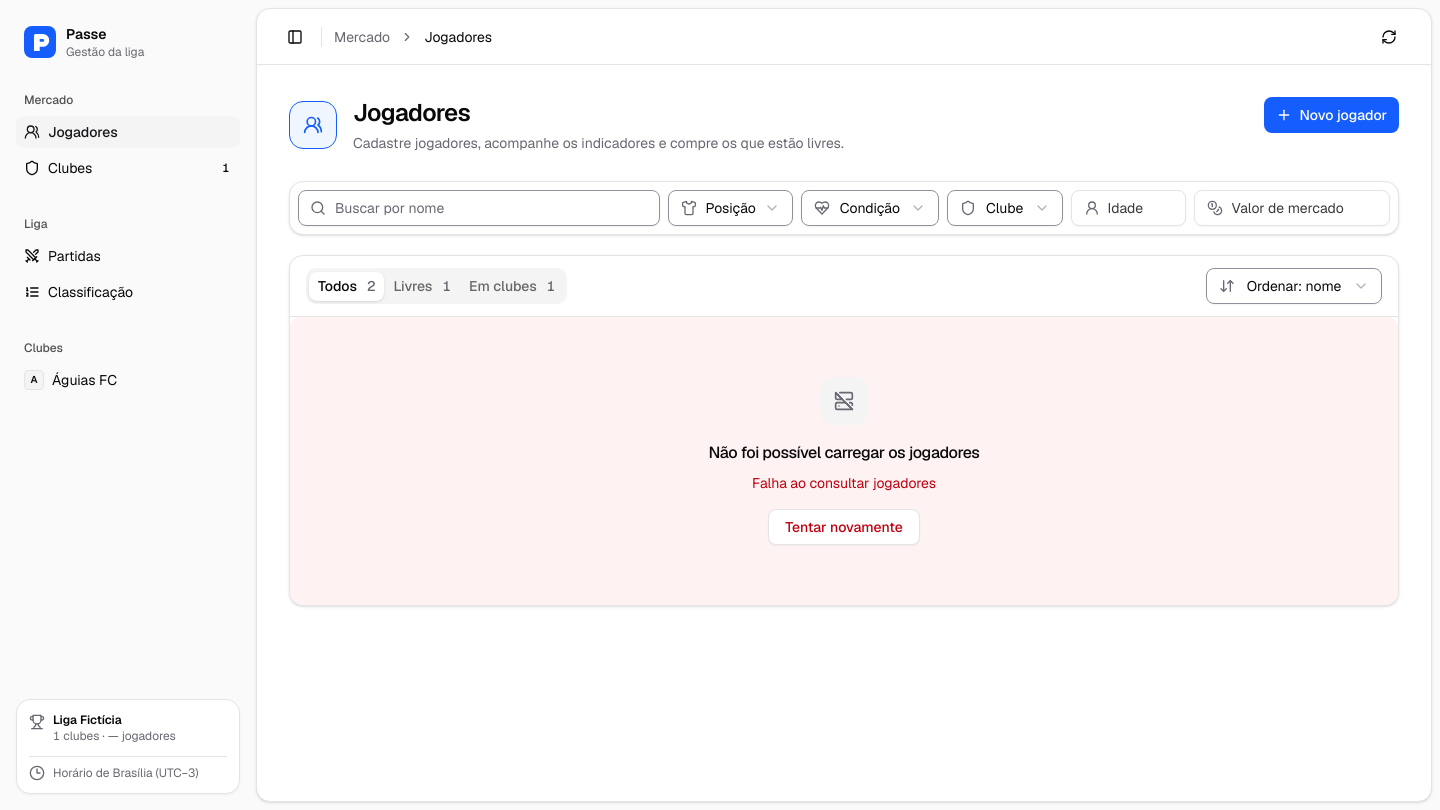
Test: F01 player list screen › shows the API message and retries the failed query
Expected: the text "Falha ao consultar jogadores" is shown, [752,473,936,493]
Step 1. Click the button "Tentar novamente" → (844,527), box [768,509,920,545]
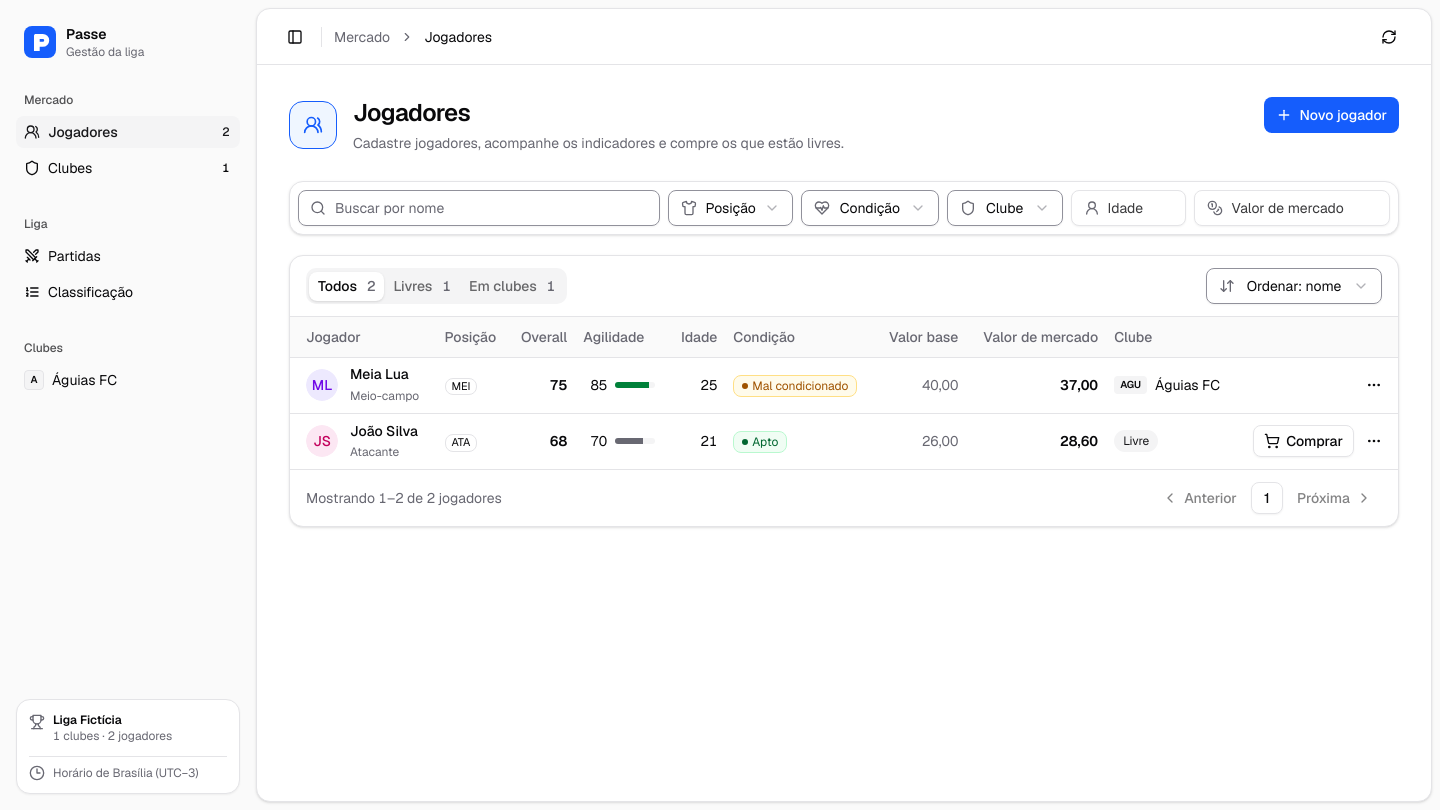
Now the number of rows is 3, box [290,317,1398,357]; [290,357,1398,413]; [290,413,1398,469]
Now the text "Meia Lua" is shown, box [350,366,419,384]
Now the text "João Silva" is shown, box [350,422,418,440]
